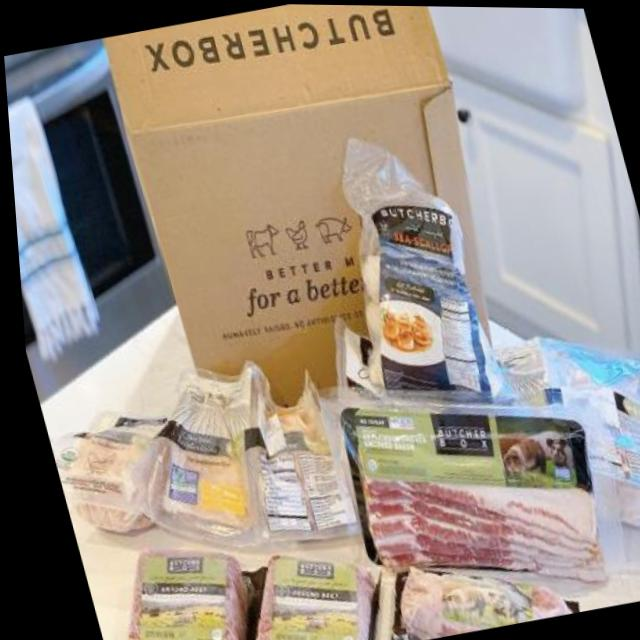box: (95, 1, 525, 423)
